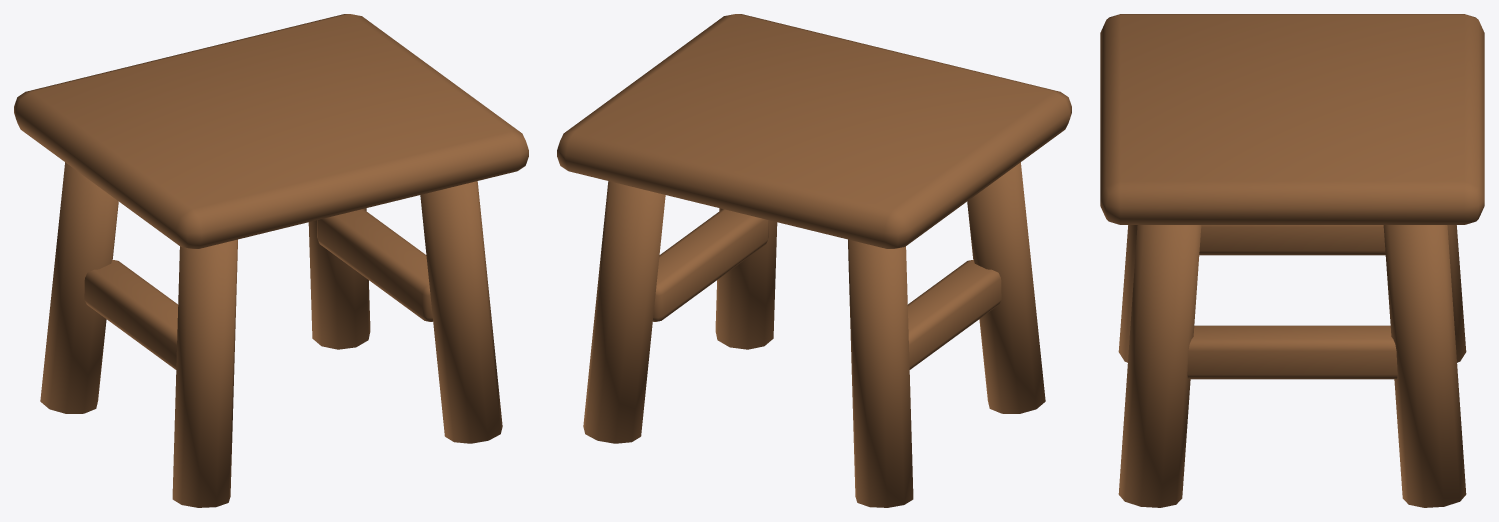
The model's file is skete-cup-stand.glb.
3 renders of one model, left to right at view 1: azimuth 30°, elevation 25°; view 2: azimuth 150°, elevation 25°; view 3: azimuth 270°, elevation 25°, orthographic. The views are drawn at different scales.
Visible parts, largest first — view 1: joined walnut stand; view 2: joined walnut stand; view 3: joined walnut stand.
Part boxes in pixels (x1,y1,x2,y2): joined walnut stand: (14,14,528,507); joined walnut stand: (557,14,1071,507); joined walnut stand: (1100,14,1484,507).
Bounding box in the file's own units: 0.86 × 0.7199 × 0.76.
